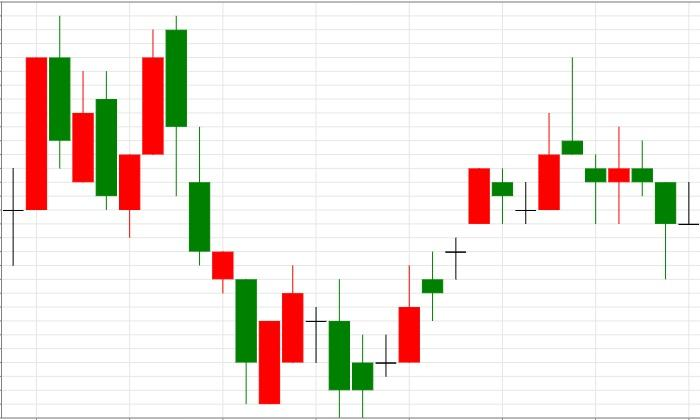hammer_rise: (561, 57, 677, 279)
